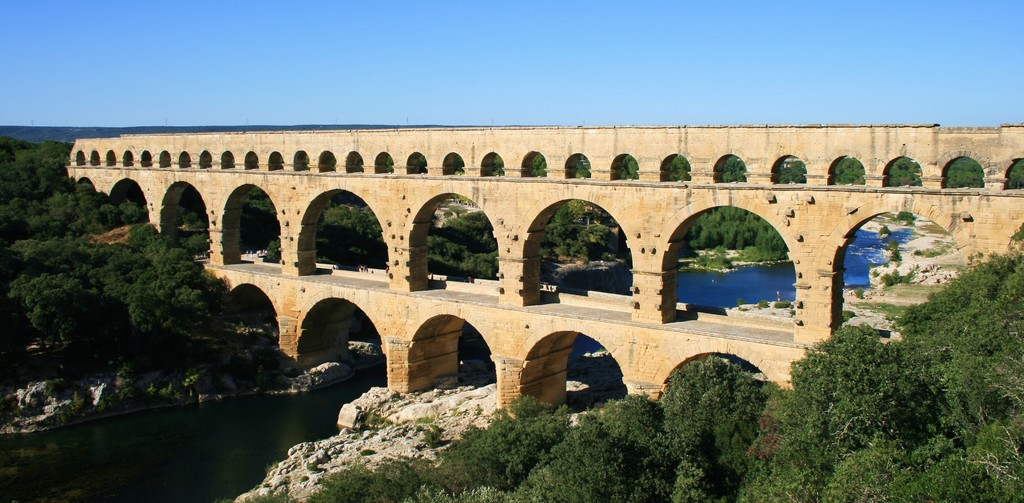Tree: (0, 131, 1024, 359), (242, 237, 1024, 503)
